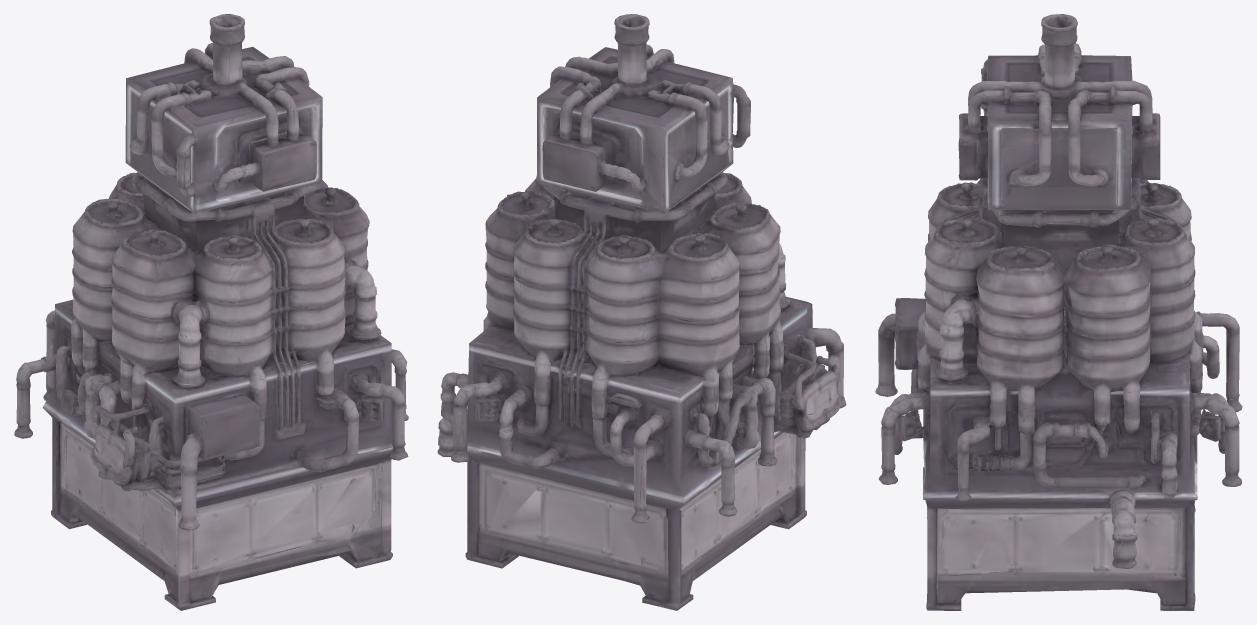
Rendered from refinery-CWecivRY.glb.
3 views of the same model, side by side, from view 1: azimuth 30°, elevation 25°; view 2: azimuth 150°, elevation 25°; view 3: azimuth 270°, elevation 25° (orthographic). The views are drawn at different scales.
Parts seen in each view (by area): view 1: Mesh_0; view 2: Mesh_0; view 3: Mesh_0.
Boxes of the visible parts, x1=… form: Mesh_0: x1=14, y1=14, x2=408, y2=610; Mesh_0: x1=437, y1=14, x2=846, y2=610; Mesh_0: x1=875, y1=14, x2=1242, y2=610.
Size of the model in its own units: 1.24 by 1.91 by 1.18.
Materials: 1 (1 with a texture image).
